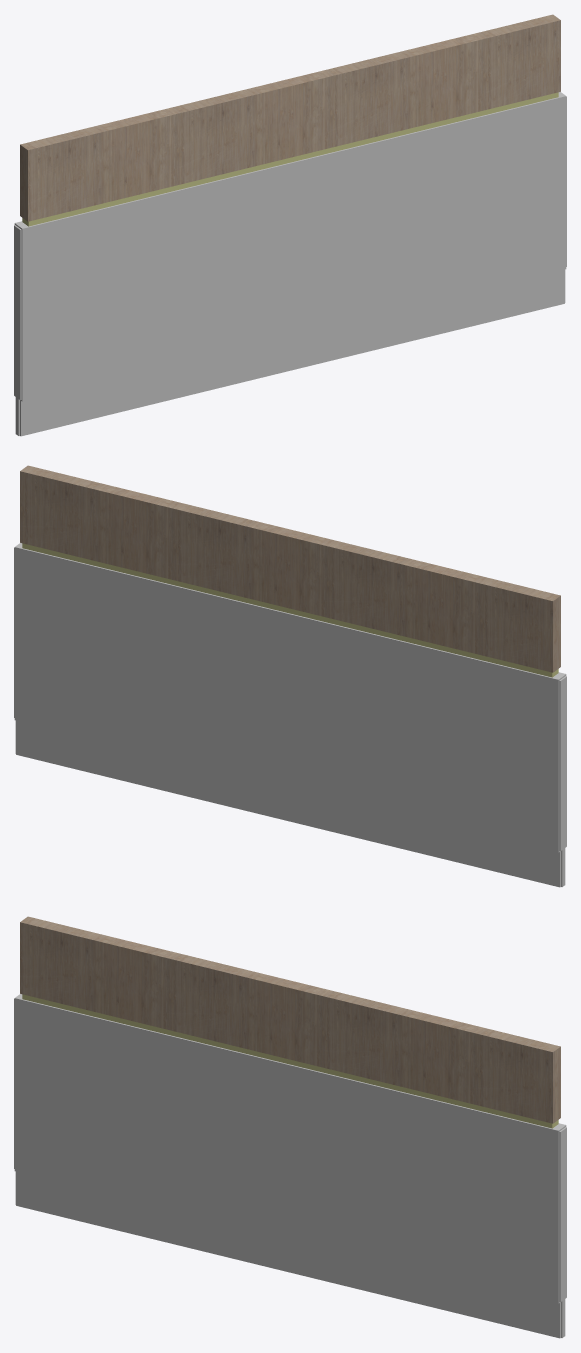
Rendered from D_Partition_004_4x2.fbx.
The picture shows the model from 3 angles, top to bottom: view 1: azimuth 30°, elevation 25°; view 2: azimuth 150°, elevation 25°; view 3: azimuth 330°, elevation 25°; orthographic projection.
Visible parts, largest first — view 1: D_Partition_004_4x2; view 2: D_Partition_004_4x2; view 3: D_Partition_004_4x2.
Boxes of the visible parts, left/top/right/bottom form: D_Partition_004_4x2: left=14, top=14, right=566, bottom=436; D_Partition_004_4x2: left=14, top=465, right=566, bottom=887; D_Partition_004_4x2: left=14, top=916, right=566, bottom=1338.
Bounding box in the file's own units: 4 × 2 × 0.1.
